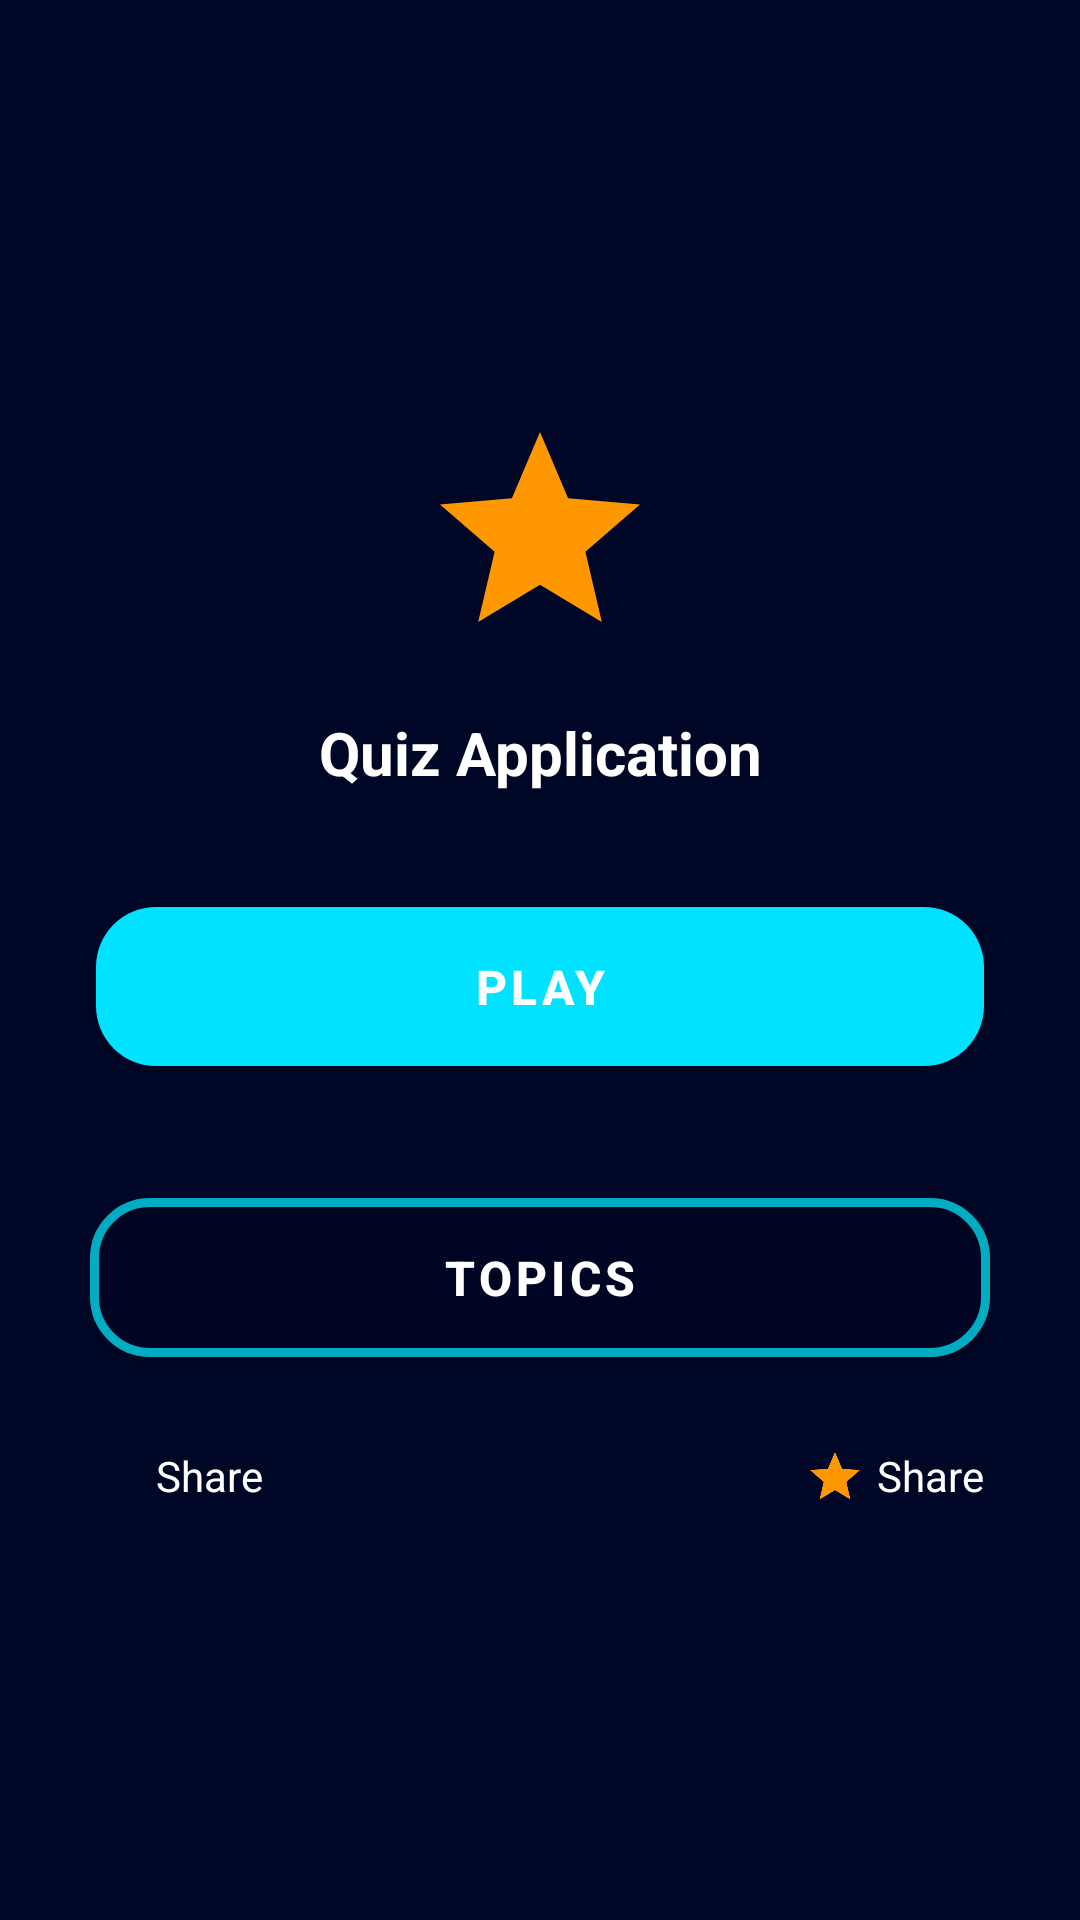

Where to tap for icons on this 1080px×1920px app screen, as (x,y):
grade: (540,527), (835,1476)
